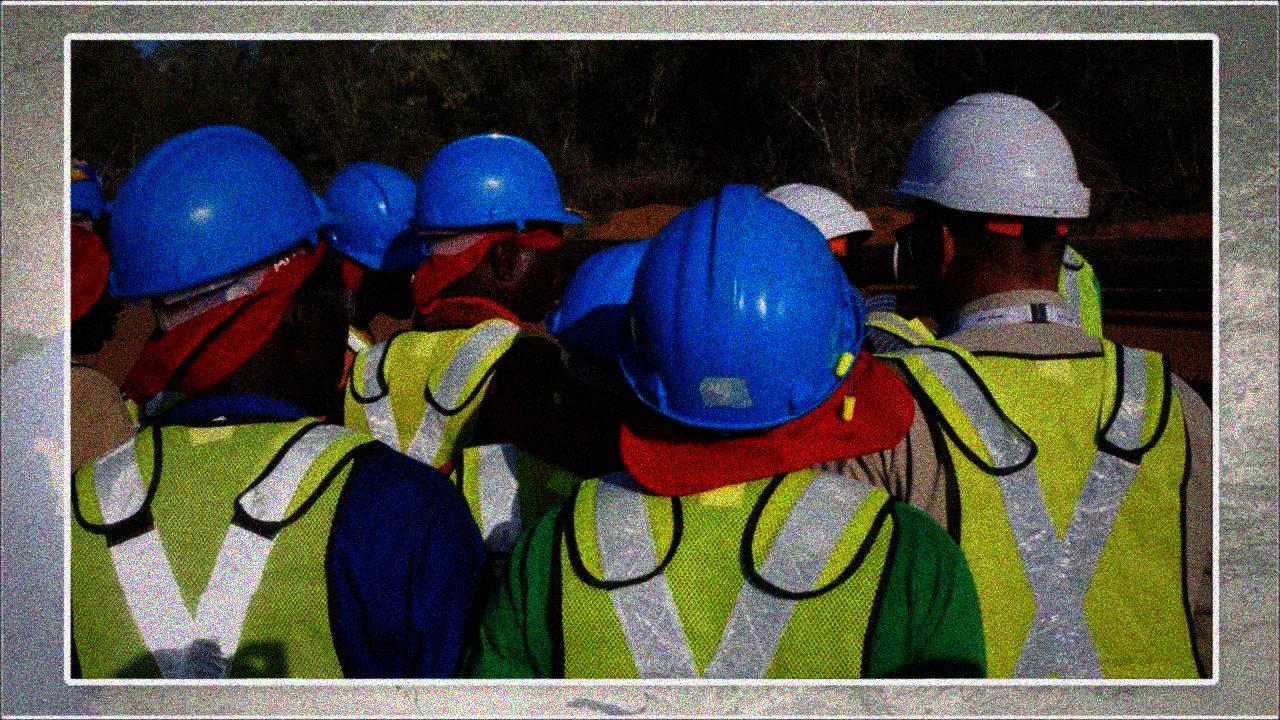helmet: (99, 126, 363, 414), (609, 181, 874, 446), (877, 87, 1094, 320), (414, 129, 590, 324), (541, 234, 675, 395), (318, 160, 423, 306), (756, 177, 878, 291), (69, 218, 129, 365), (71, 157, 118, 242)
